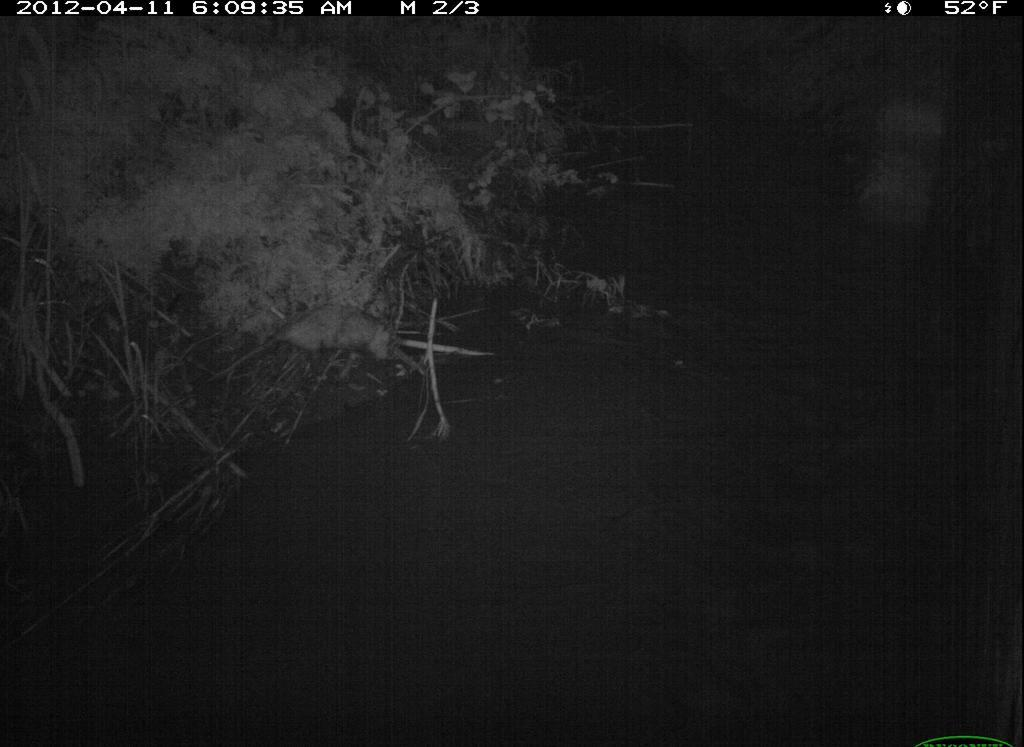opossum: (231, 301, 452, 394)
